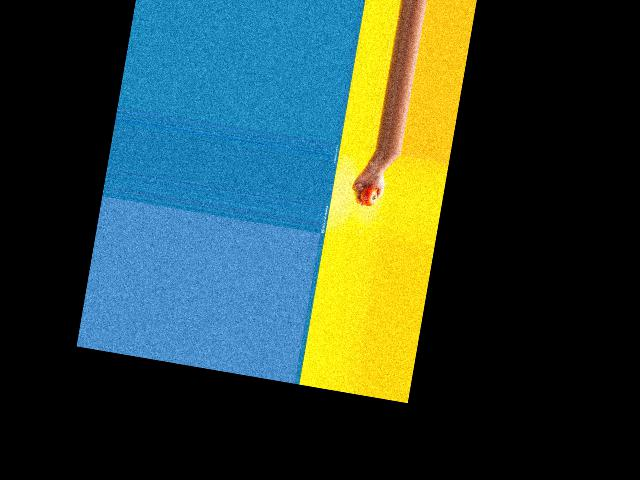tomato: (358, 185, 377, 206)
